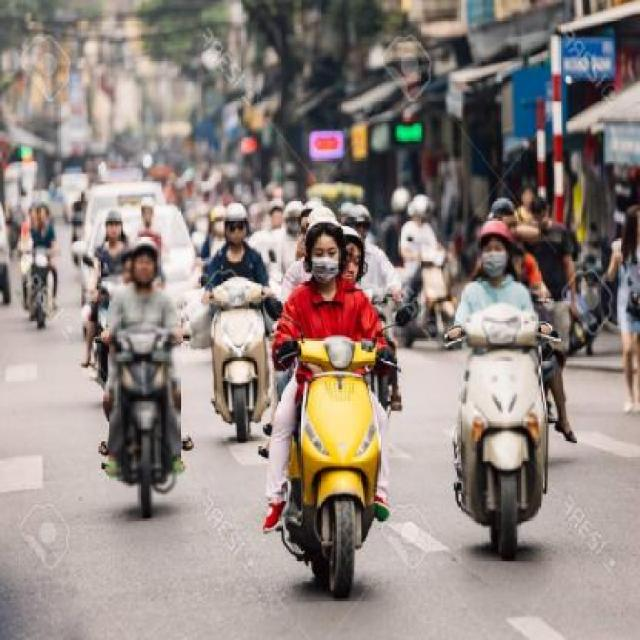helmet: (463, 206, 527, 287), (307, 220, 342, 284), (128, 235, 161, 294), (339, 224, 374, 278), (223, 198, 254, 252)
motorcycle: (248, 228, 404, 595), (449, 204, 557, 542), (88, 224, 197, 520), (194, 198, 290, 444)
